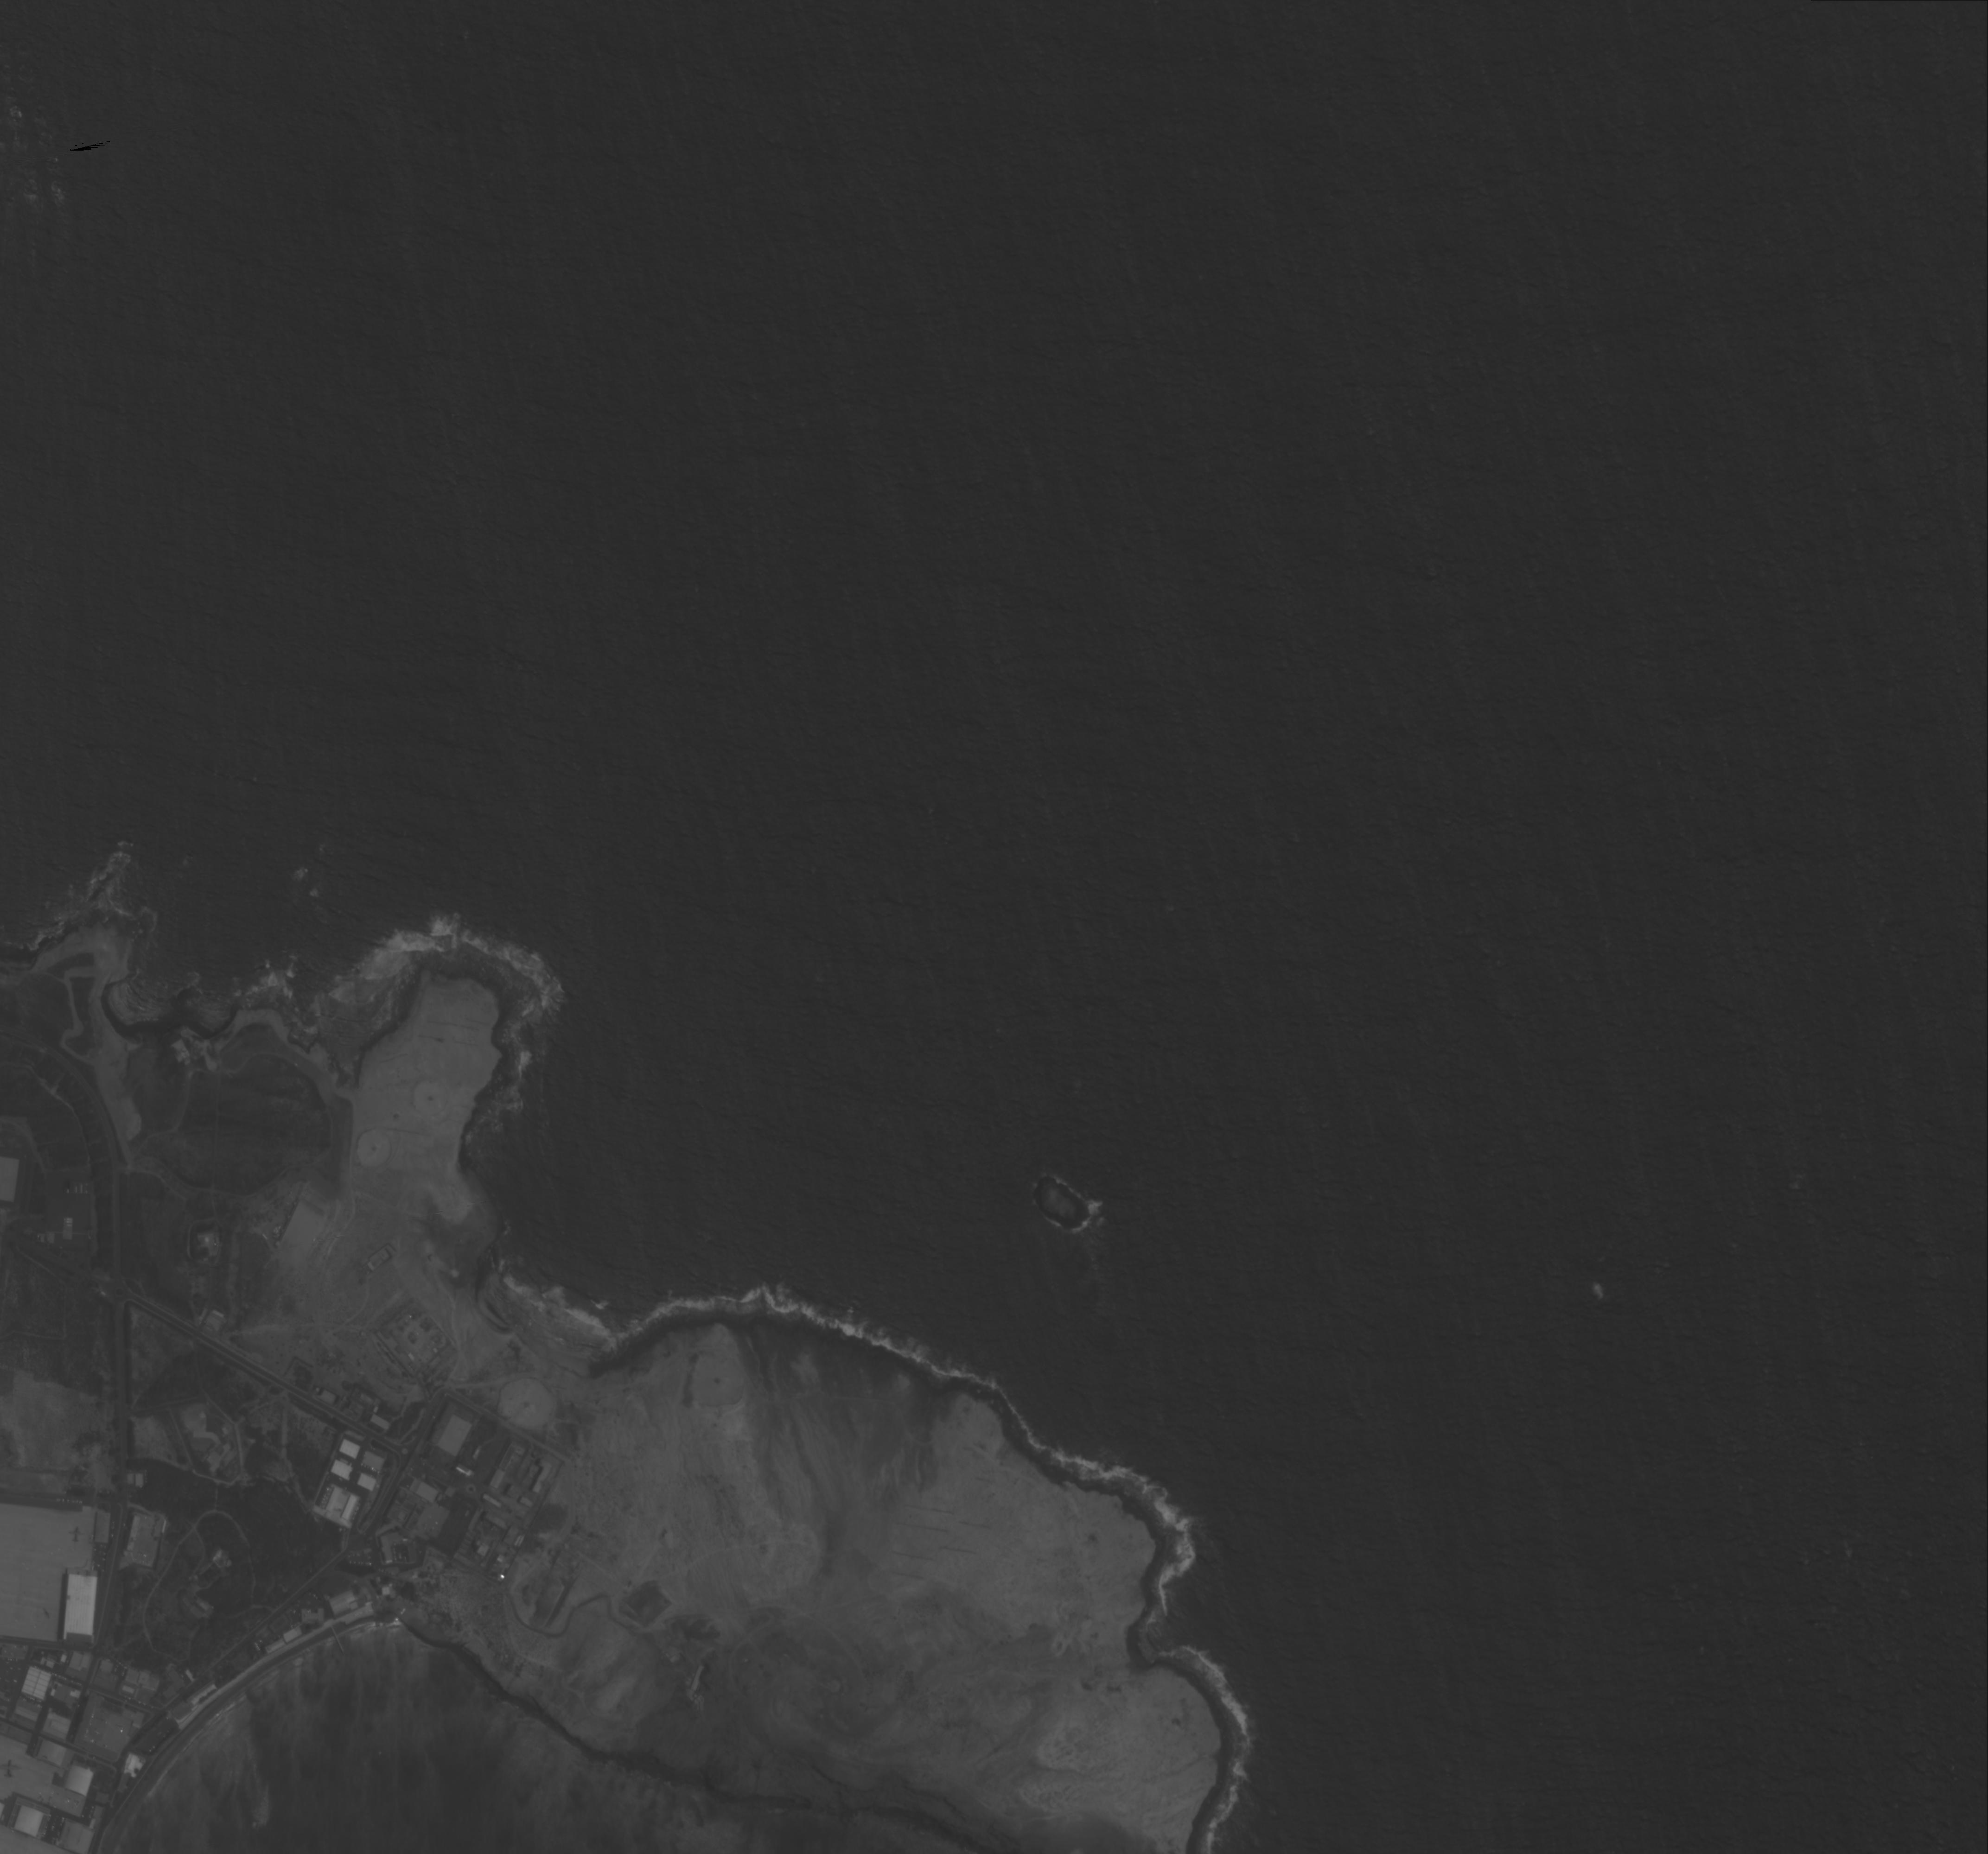plane: (0, 1756, 23, 1779), (68, 1525, 87, 1544), (40, 1607, 54, 1619)
